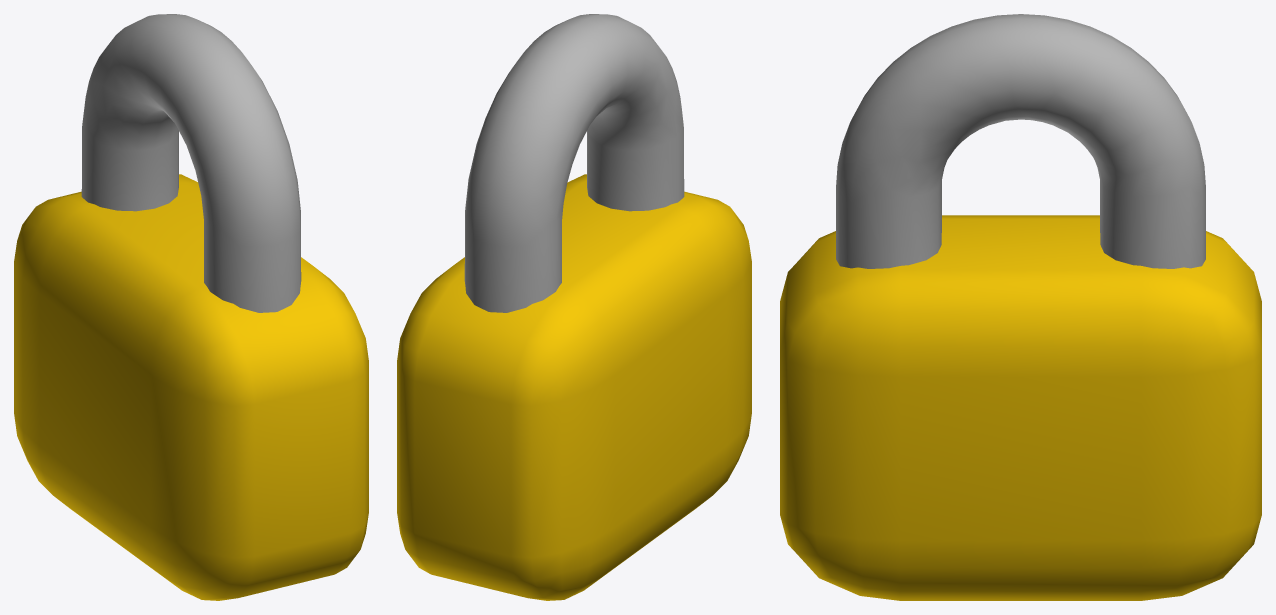
Rendered from padlock.glb.
The picture shows the model from 3 angles, left to right: view 1: azimuth 30°, elevation 25°; view 2: azimuth 150°, elevation 25°; view 3: azimuth 270°, elevation 25°; orthographic projection. The views are drawn at different scales.
Parts seen in each view (by area): view 1: Torus; view 2: Torus; view 3: Torus.
Part boxes in pixels (x1,y1,x2,y2): Torus: (14, 14, 368, 600); Torus: (397, 14, 751, 600); Torus: (780, 14, 1261, 600).
Bounding box in the file's own units: 0.9971 × 2.53 × 2.
